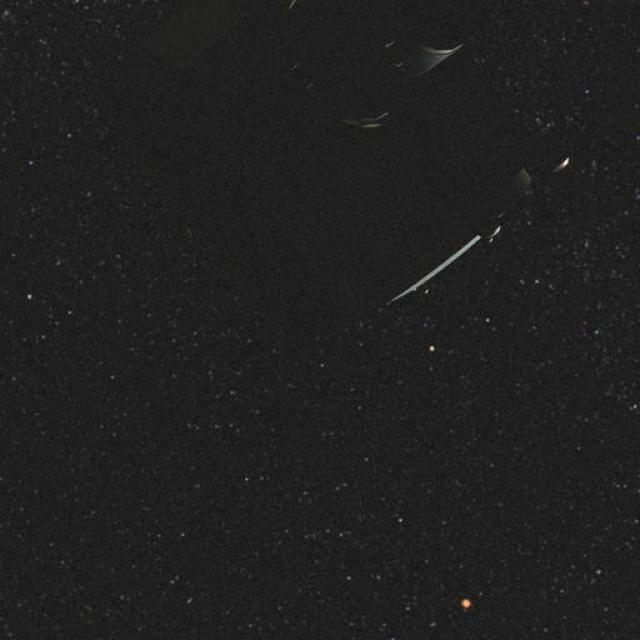cheops: (322, 33, 587, 349)
